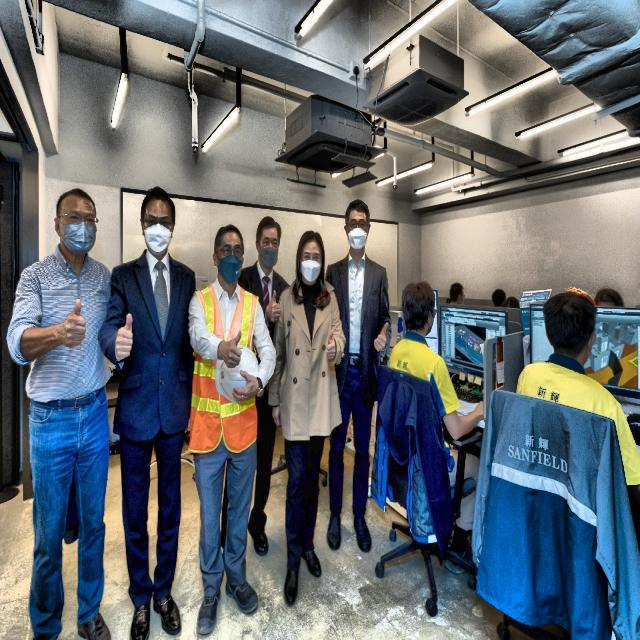safety_helmet: (213, 342, 263, 408)
safety_jacket: (188, 281, 262, 460)
